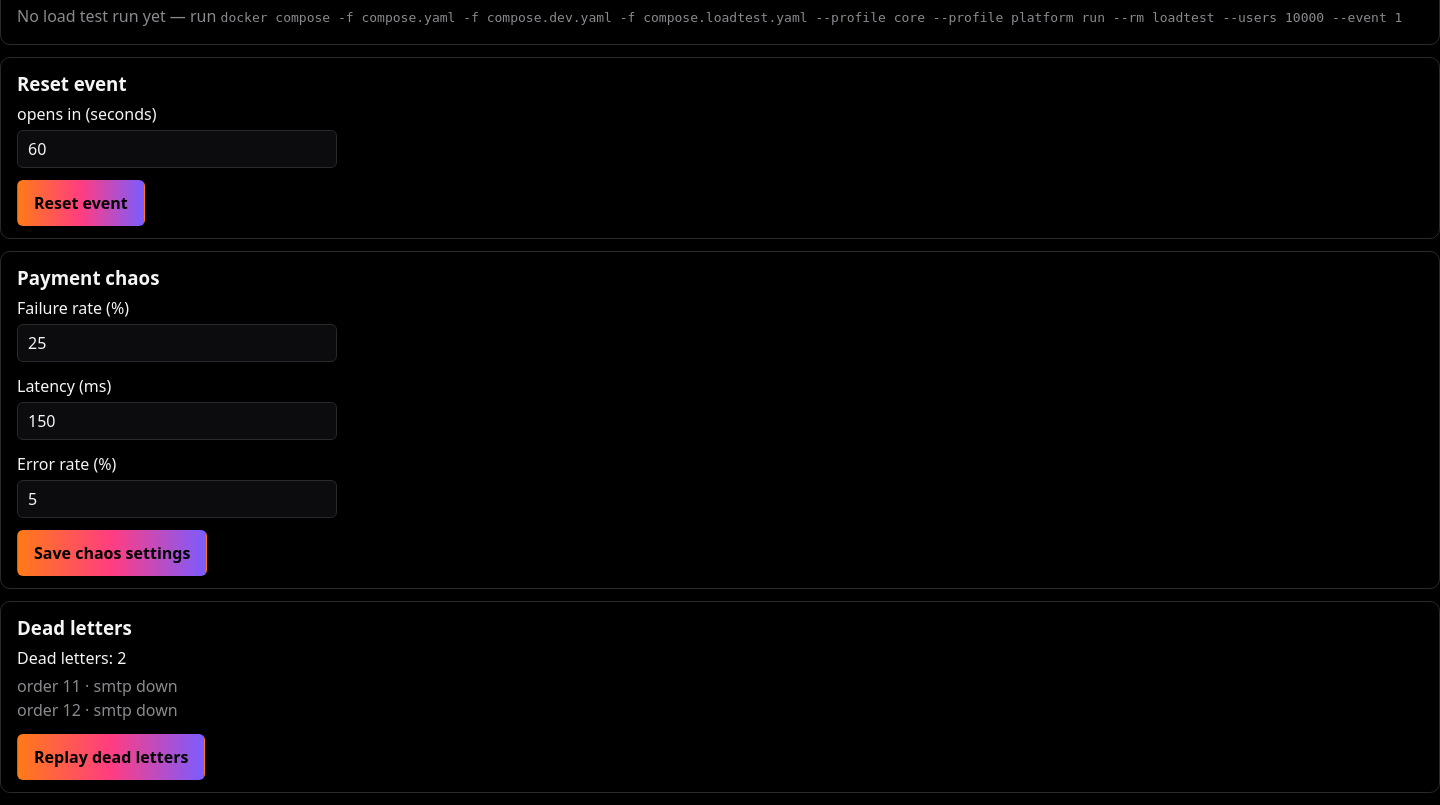
Test: OpsPage › shows the dead-letter count and replays
This screenshot has width=1440, height=805.
(page scrolled)
Expected: the text "Dead letters: 2" is shown, [17, 647, 126, 669]
Expected: the list item "order 11 · smtp down" is shown, [17, 675, 178, 697]
Click the button "Replay dead letters": {"x": 111, "y": 757} [17, 734, 205, 780]
(page scrolled)
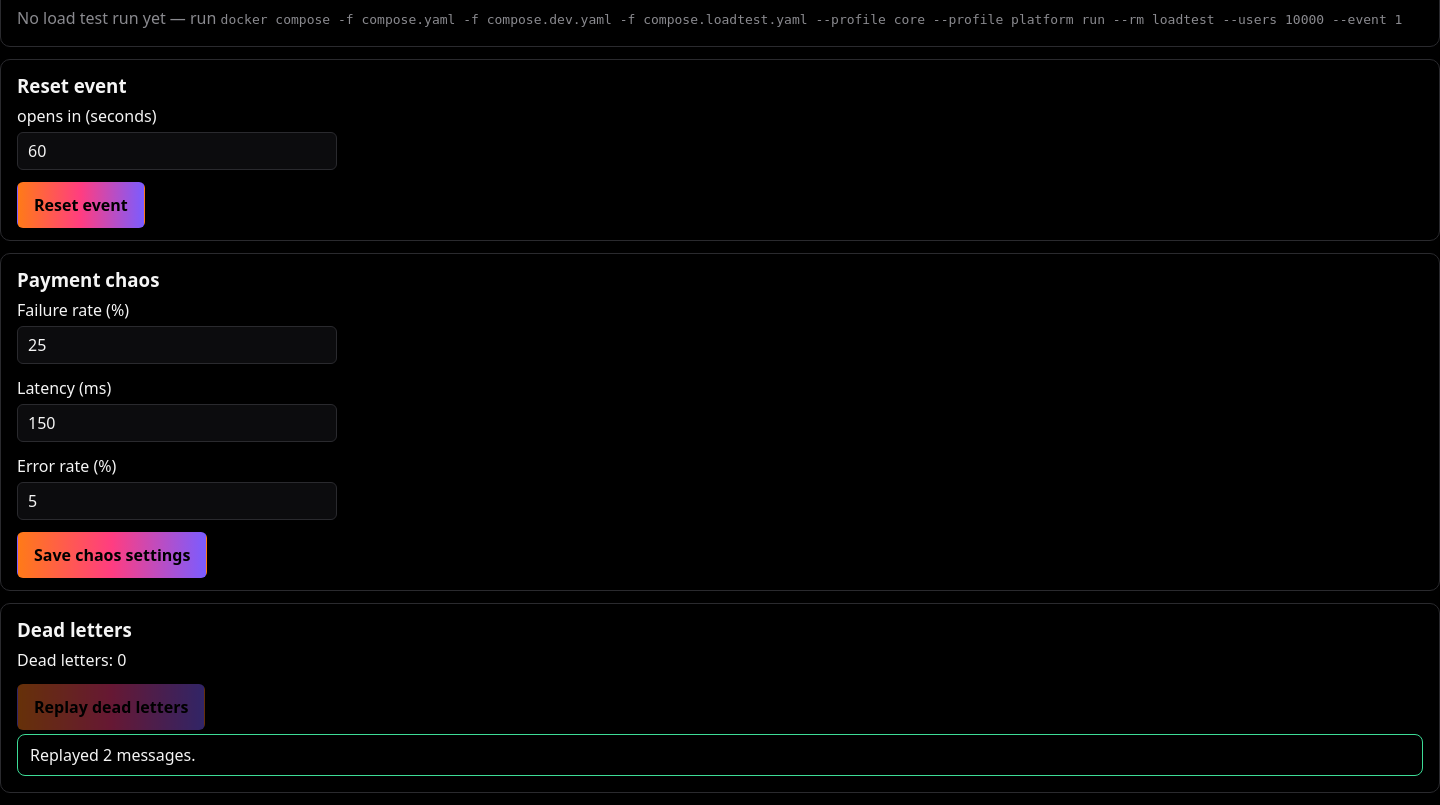
Result: the text "Replayed 2 messages." is shown at [17, 734, 1423, 776]
Result: the text "Dead letters: 0" is shown at [17, 649, 126, 671]
